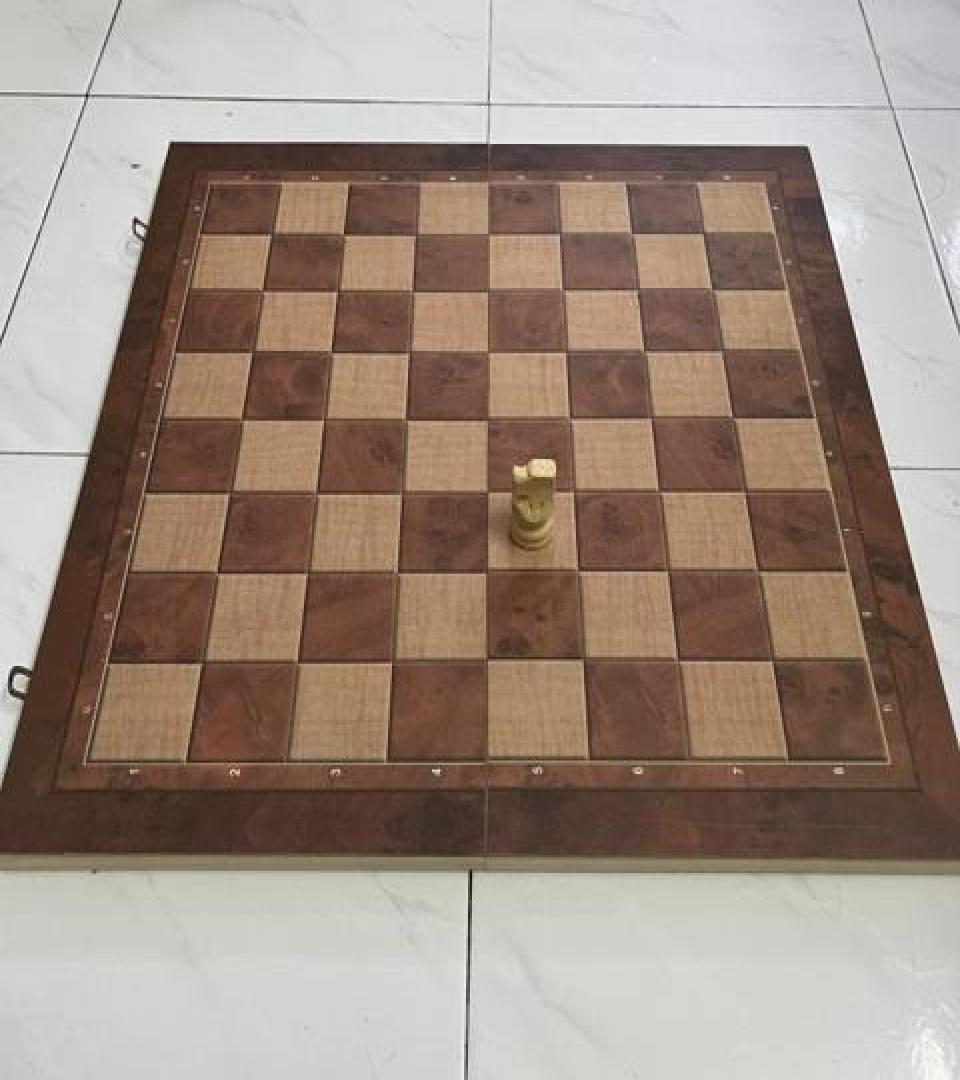xcorner: (681, 219, 715, 258), (610, 219, 644, 258), (538, 219, 572, 258), (466, 219, 500, 258), (395, 219, 429, 258), (323, 219, 357, 258), (252, 219, 286, 258), (311, 335, 345, 374), (234, 335, 268, 374), (185, 642, 219, 681), (691, 276, 725, 314), (616, 276, 650, 314), (541, 276, 575, 314), (467, 276, 501, 314), (392, 276, 426, 314), (318, 276, 352, 314), (243, 274, 277, 312), (700, 336, 734, 374), (623, 336, 657, 374), (545, 336, 579, 374), (467, 336, 501, 374), (389, 336, 423, 374), (711, 403, 745, 441), (630, 403, 664, 441), (548, 403, 582, 441), (467, 403, 501, 441), (386, 402, 420, 440), (304, 402, 338, 440), (223, 402, 257, 440), (723, 475, 757, 513), (638, 475, 672, 513), (552, 475, 586, 513), (467, 475, 501, 513), (382, 475, 416, 513), (297, 475, 331, 513), (212, 475, 246, 513), (737, 556, 771, 594), (647, 556, 681, 594), (557, 555, 591, 593), (467, 555, 501, 593), (378, 555, 412, 593), (288, 555, 322, 593), (199, 555, 233, 593), (751, 645, 785, 683), (657, 644, 691, 682), (562, 644, 596, 682), (468, 644, 502, 682), (373, 644, 407, 682), (279, 644, 313, 682)
